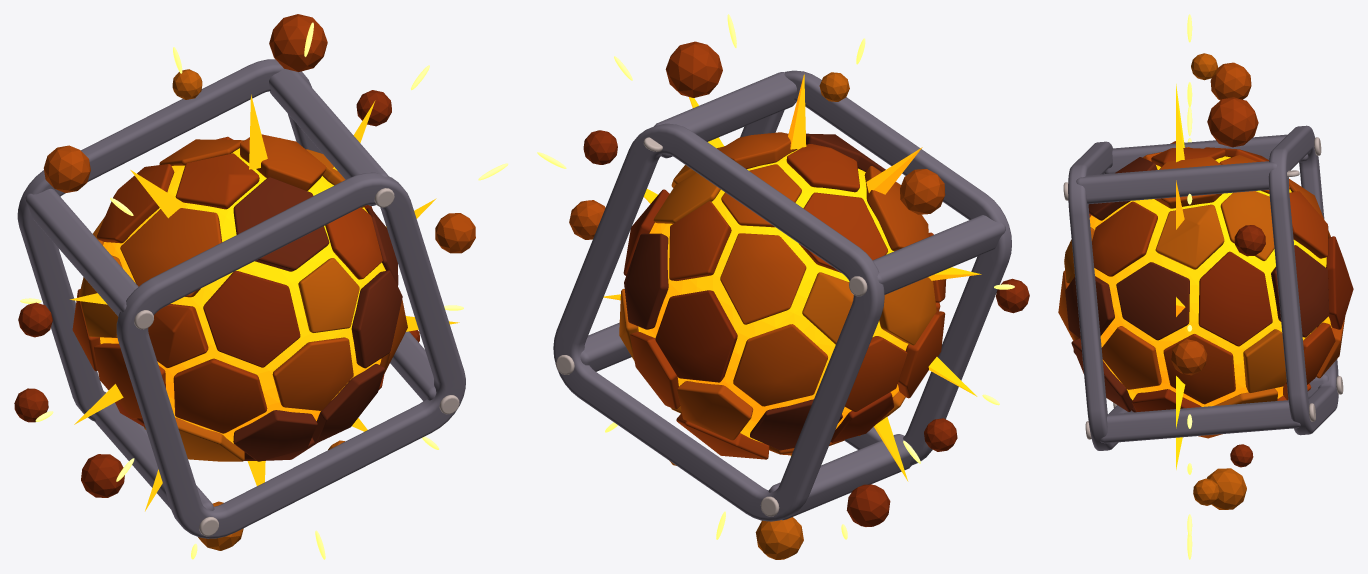
The model's file is comet-core.glb.
3 views of the same model, side by side, from view 1: azimuth 30°, elevation 25°; view 2: azimuth 150°, elevation 25°; view 3: azimuth 270°, elevation 25° (orthographic). The views are drawn at different scales.
Visible parts, largest first — view 1: Item_Cage_warm_gunmetal, Item_Core_basalt_1, Item_Core_basalt_4, Item_Core_basalt_2, Item_Core_golden_molten_fissures, Item_Core_basalt_3, Item_Core_basalt_0, FX_Core_basalt_0, FX_Core_golden_molten_fissures, FX_Core_basalt_2, FX_Core_basalt_1, FX_VFX_hot_gold (+2 smaller); view 2: Item_Cage_warm_gunmetal, Item_Core_basalt_2, Item_Core_basalt_1, Item_Core_golden_molten_fissures, Item_Core_basalt_0, Item_Core_basalt_3, Item_Core_basalt_4, FX_Core_basalt_0, FX_Core_golden_molten_fissures, FX_Core_basalt_2, FX_Core_basalt_1, FX_Core_basalt_3 (+2 smaller); view 3: Item_Cage_warm_gunmetal, Item_Core_basalt_1, Item_Core_basalt_4, Item_Core_basalt_3, Item_Core_golden_molten_fissures, Item_Core_basalt_0, Item_Core_basalt_2, FX_Core_basalt_3, FX_Core_basalt_2, FX_Core_basalt_1, FX_Core_basalt_0, FX_Core_golden_molten_fissures (+2 smaller).
Part boxes in pixels (box(x1,y1,x2,y2)): Item_Cage_warm_gunmetal: box(17, 59, 465, 538); Item_Core_basalt_1: box(72, 136, 382, 433); Item_Core_basalt_4: box(233, 177, 402, 461); Item_Core_basalt_2: box(120, 134, 407, 410); Item_Core_golden_molten_fissures: box(100, 148, 385, 443); Item_Core_basalt_3: box(79, 138, 365, 461); Item_Core_basalt_0: box(115, 205, 384, 426); FX_Core_basalt_0: box(14, 90, 419, 497); FX_Core_golden_molten_fissures: box(70, 94, 459, 511); FX_Core_basalt_2: box(43, 145, 475, 253); FX_Core_basalt_1: box(269, 14, 327, 71); FX_VFX_hot_gold: box(20, 22, 508, 559); Item_Cage_warm_gunmetal: box(553, 70, 1011, 521); Item_Core_basalt_2: box(677, 132, 928, 455); Item_Core_basalt_1: box(630, 144, 946, 459); Item_Core_golden_molten_fissures: box(638, 148, 908, 442); Item_Core_basalt_0: box(623, 189, 894, 442); Item_Core_basalt_3: box(619, 146, 936, 435); Item_Core_basalt_4: box(624, 133, 885, 450); FX_Core_basalt_0: box(583, 130, 1029, 526); FX_Core_golden_molten_fissures: box(603, 74, 981, 481); FX_Core_basalt_2: box(569, 169, 945, 239); FX_Core_basalt_1: box(665, 41, 722, 97); FX_Core_basalt_3: box(670, 72, 849, 559); Item_Cage_warm_gunmetal: box(1068, 125, 1338, 450); Item_Core_basalt_1: box(1092, 147, 1335, 404); Item_Core_basalt_4: box(1065, 157, 1329, 412); Item_Core_basalt_3: box(1064, 191, 1286, 405); Item_Core_golden_molten_fissures: box(1089, 156, 1331, 406); Item_Core_basalt_0: box(1089, 214, 1353, 411); Item_Core_basalt_2: box(1058, 147, 1345, 438); FX_Core_basalt_3: box(1191, 53, 1246, 509); FX_Core_basalt_2: box(1171, 62, 1251, 375); FX_Core_basalt_1: box(1207, 97, 1258, 147); FX_Core_basalt_0: box(1170, 141, 1265, 467); FX_Core_golden_molten_fissures: box(1176, 84, 1185, 469).
Bounding box in the file's own units: 1.82 × 1.94 × 1.08.
